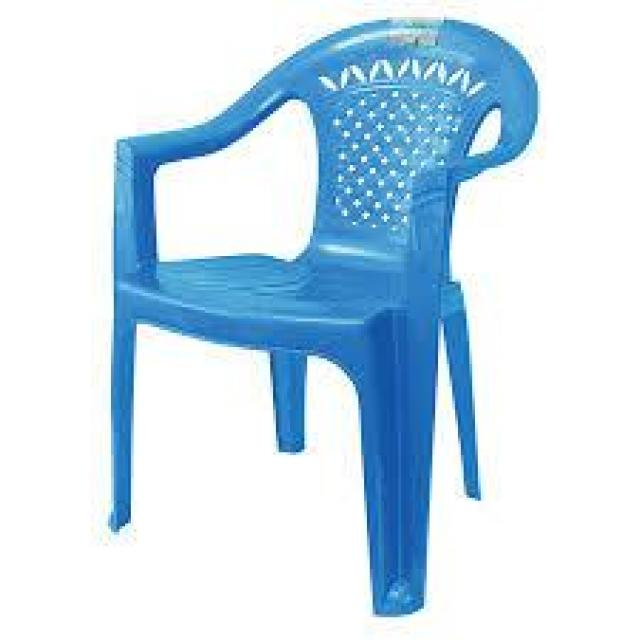chair: (76, 22, 574, 592)
